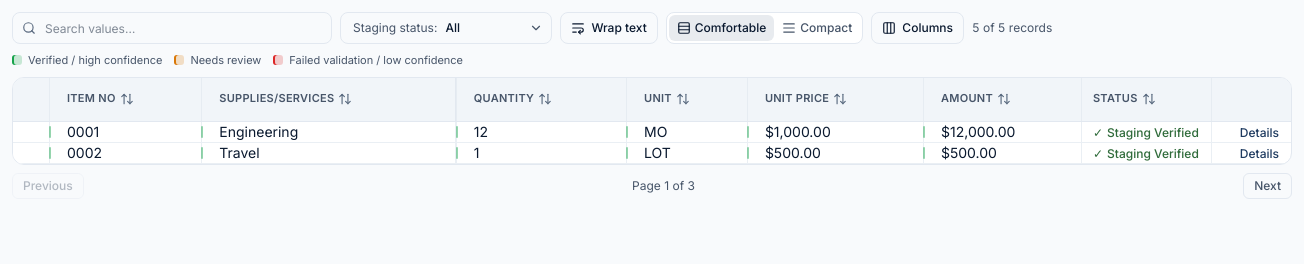
StagingDatasetTable selection (contract CLINs) › a click toggles one cell; further clicks add non-adjacent cells; clicking again removes
Click the cell "Engineering": (329, 132) [201,122,456,142]
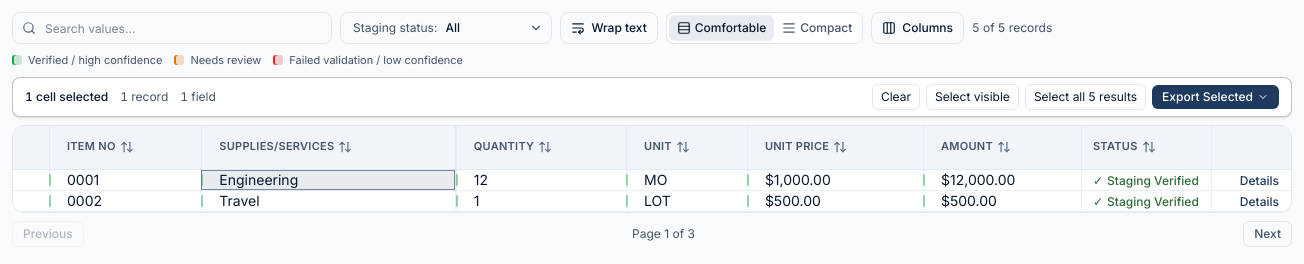
Expected: the cell "Engineering" is selected, [201,170,456,190]
Expected: the cell "Engineering" has class "cell-selected", [201,170,456,190]
Click the 2nd cell "$500.00": (1002, 201) [923,190,1081,212]
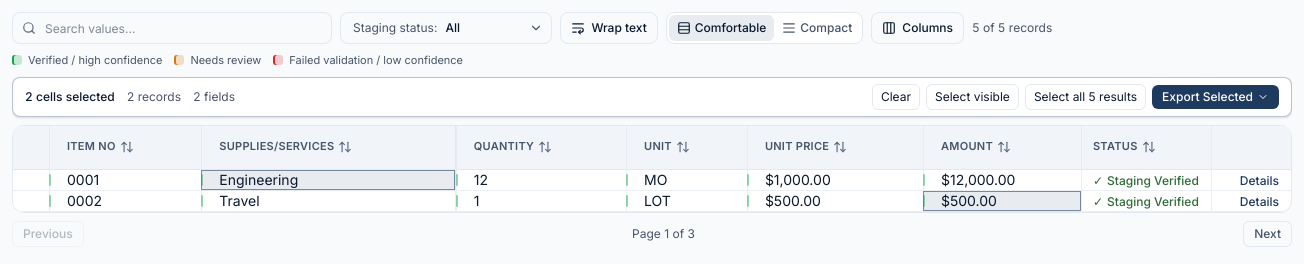
Click the cell "LOT": (686, 201) [626,190,747,212]
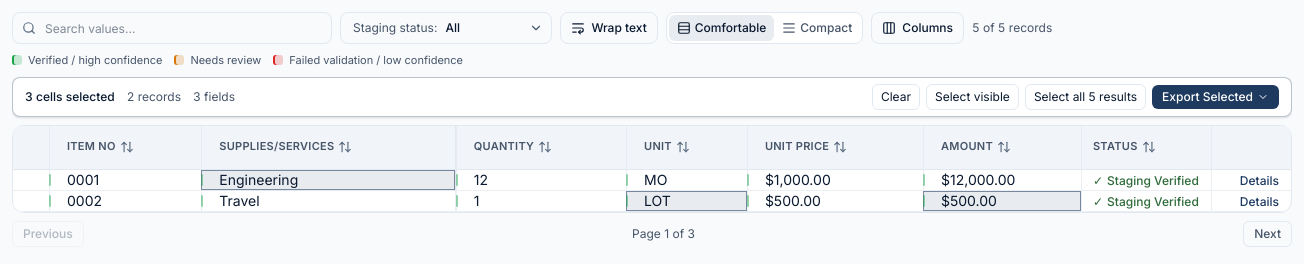
Click the cell "LOT": (686, 201) [626,190,747,212]
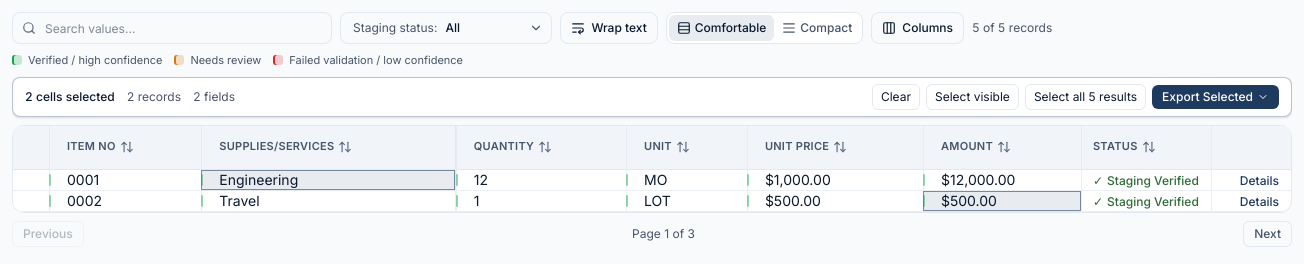
Expected: the element with test id "selection-toolbar" shows "2 cells selected", [12,76,1292,116]
